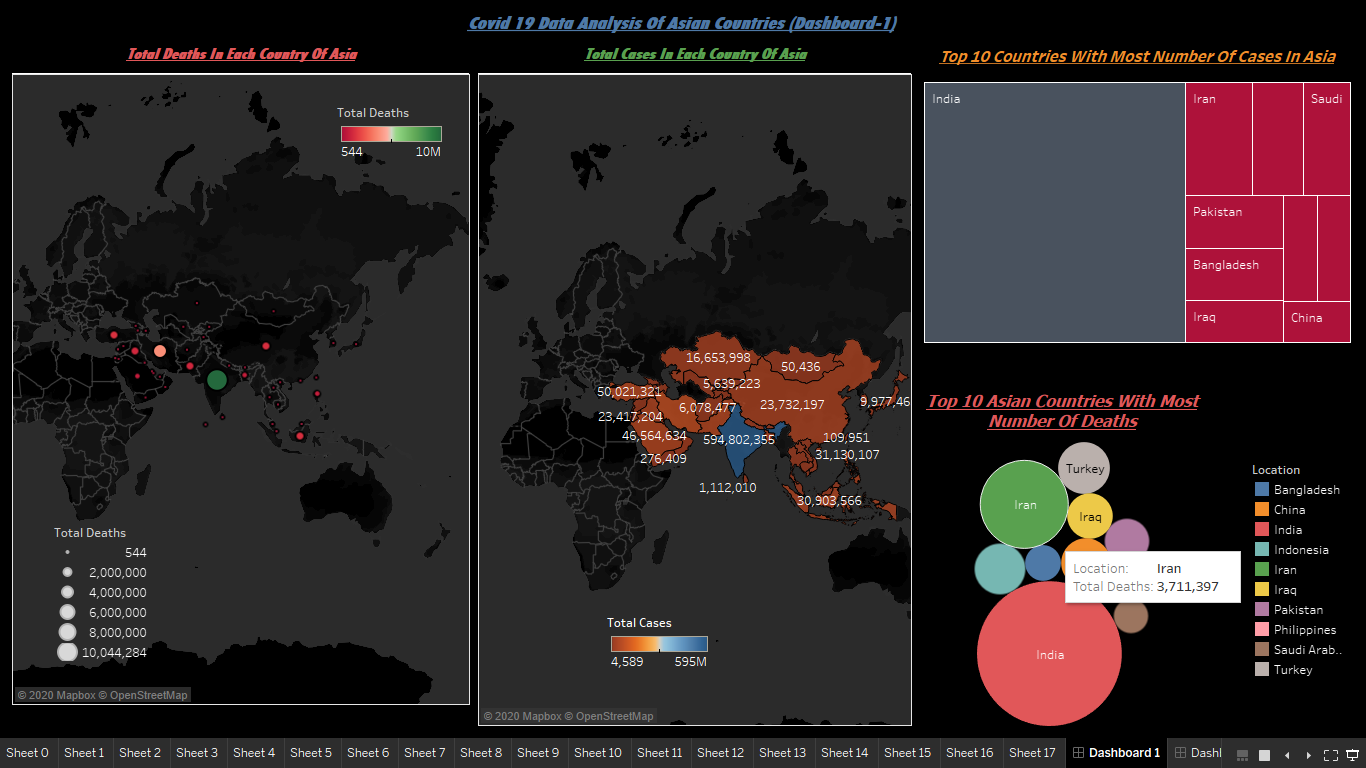

The dashboard page shown, as its layout file describes it:
{"tool":"tableau","page":{"name":"Dashboard 1","canvas":[1000,1000],"units":"permille","ordinal":0},"visuals":[{"type":"worksheet","box":[0,0,1000,1000]},{"type":"worksheet","param":"horz","box":[6.9,12.7,986.1,974.7]},{"type":"worksheet","param":"vert","box":[6.9,12.7,986.1,974.7]},{"type":"worksheet","box":[6.9,12.7,986.1,45.9]},{"type":"worksheet","param":"horz","box":[6.9,58.6,986.1,928.8]},{"type":"worksheet","param":"horz","box":[6.9,58.6,986.1,928.8]},{"type":"worksheet","param":"horz","box":[6.9,58.6,986.1,928.8]},{"type":"worksheet","box":[6.9,58.6,986.1,928.8]},{"type":"worksheet","title":"Sheet 3","mark":"Automatic","box":[6.9,58.6,340.2,928.8]},{"type":"worksheet","title":"Sheet 1","mark":"Automatic","box":[347.2,58.6,323,928.8]},{"type":"worksheet","title":"Sheet 2","mark":"Automatic","box":[670.1,58.6,322.9,464.4]},{"type":"worksheet","title":"Sheet 3","mark":"Automatic","param":"[federated.1yufloj0mztrs41de1lqx124z838].[sum:total_deaths:qk]","box":[246.8,140.8,79.7,88.6]},{"type":"worksheet","title":"Sheet 4","mark":"Circle","box":[670.1,523,322.9,464.4]},{"type":"worksheet","title":"Sheet 4","mark":"Circle","param":"[federated.1yufloj0mztrs41de1lqx124z838].[none:location:nk]","box":[916.9,625,70.1,344.9]},{"type":"worksheet","title":"Sheet 3","mark":"Automatic","param":"[federated.1yufloj0mztrs41de1lqx124z838].[sum:total_deaths:qk]","box":[39.8,710.4,82.2,234.2]},{"type":"worksheet","title":"Sheet 1","mark":"Automatic","param":"[federated.1yufloj0mztrs41de1lqx124z838].[sum:total_cases:qk]","box":[444.2,832.3,77.1,83.9]}]}

Visuals, with their boxes on the dashboard's canvas, which has no fixed pixel size, in thousandths of its width and height (x1, y1, x2, y2). These are canvas units, not pixel positions in the 1366x768 screenshot, which may show the page scaled, cropped or inside an application window:
worksheet: (0,0,1000,1000)
worksheet: (7,13,993,987)
worksheet: (7,13,993,987)
worksheet: (7,13,993,59)
worksheet: (7,59,993,987)
worksheet: (7,59,993,987)
worksheet: (7,59,993,987)
worksheet: (7,59,993,987)
"Sheet 3" worksheet: (7,59,347,987)
"Sheet 1" worksheet: (347,59,670,987)
"Sheet 2" worksheet: (670,59,993,523)
"Sheet 3" worksheet: (247,141,326,229)
"Sheet 4" worksheet (Circle marks): (670,523,993,987)
"Sheet 4" worksheet (Circle marks): (917,625,987,970)
"Sheet 3" worksheet: (40,710,122,945)
"Sheet 1" worksheet: (444,832,521,916)
